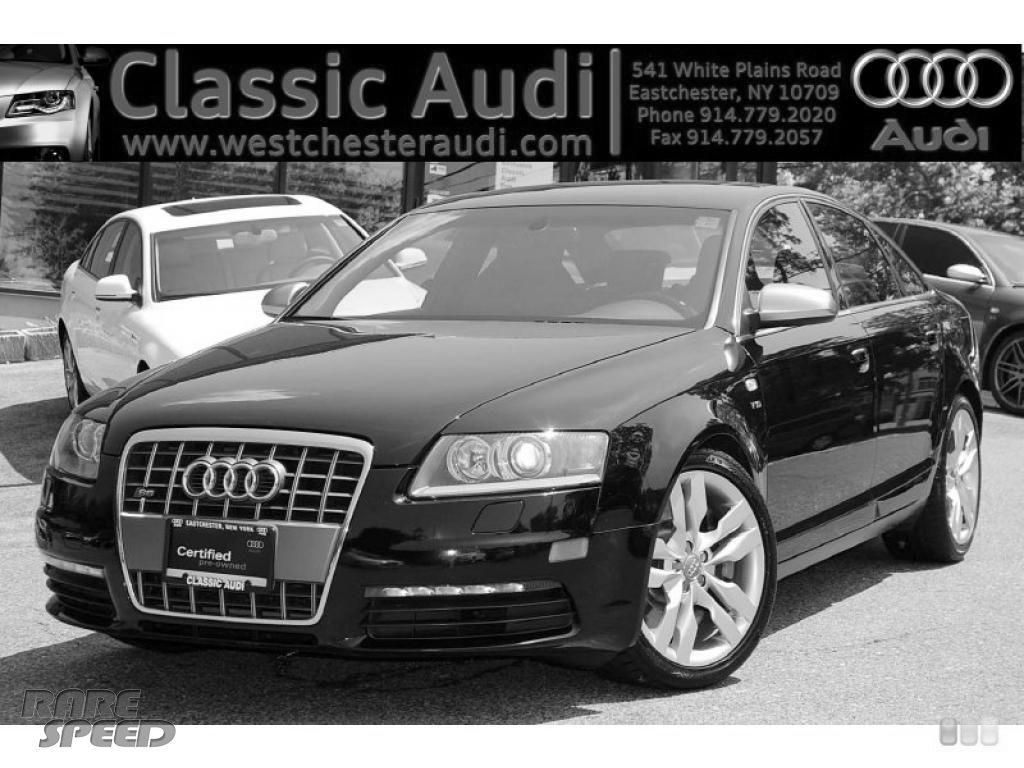car: (28, 180, 988, 694)
